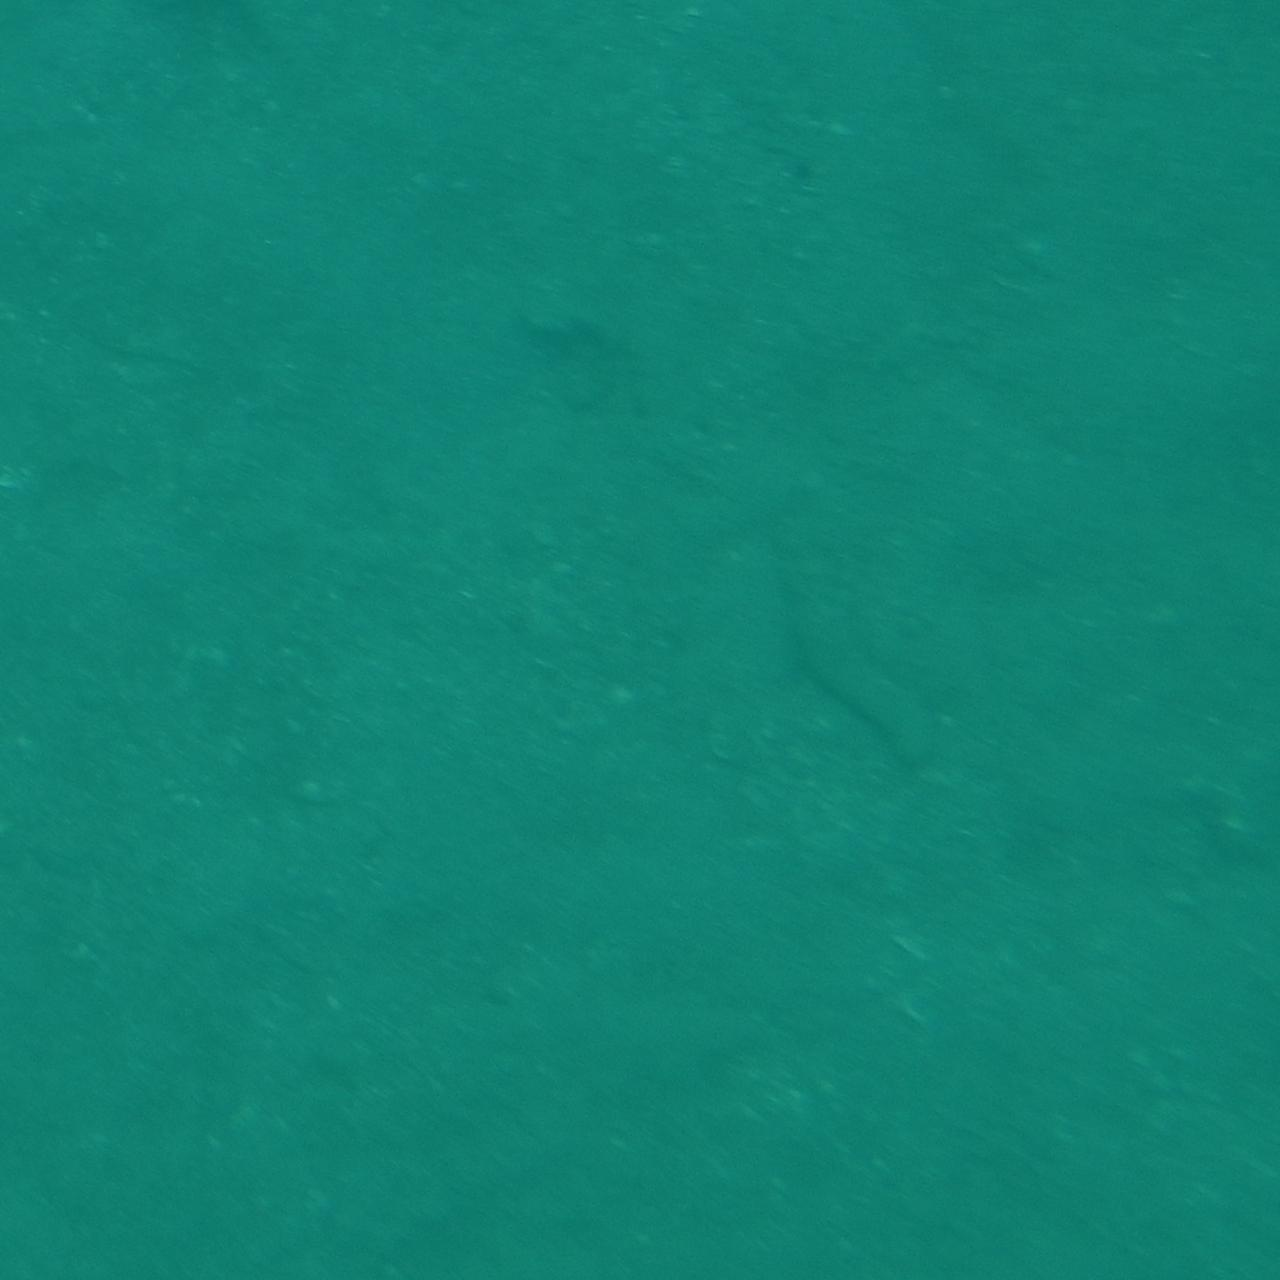Holothuria tubulosa: (743, 512, 965, 768)
